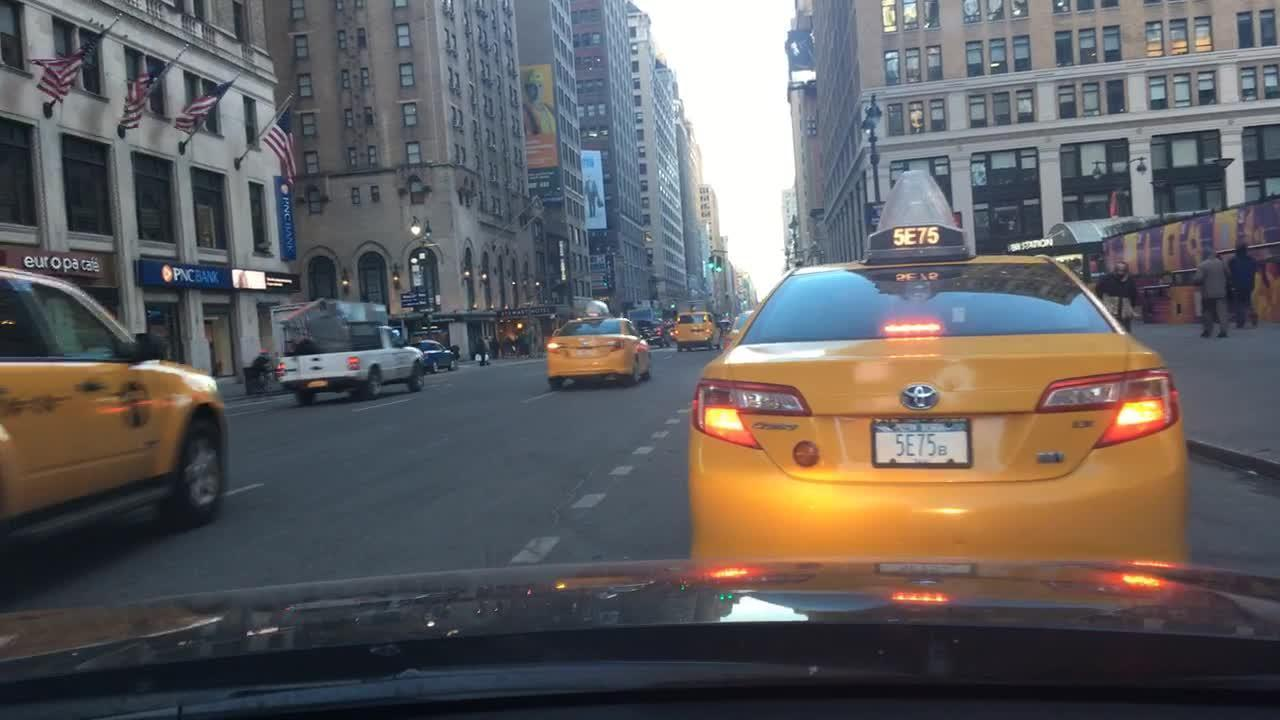Toyota: (887, 376, 951, 412)
